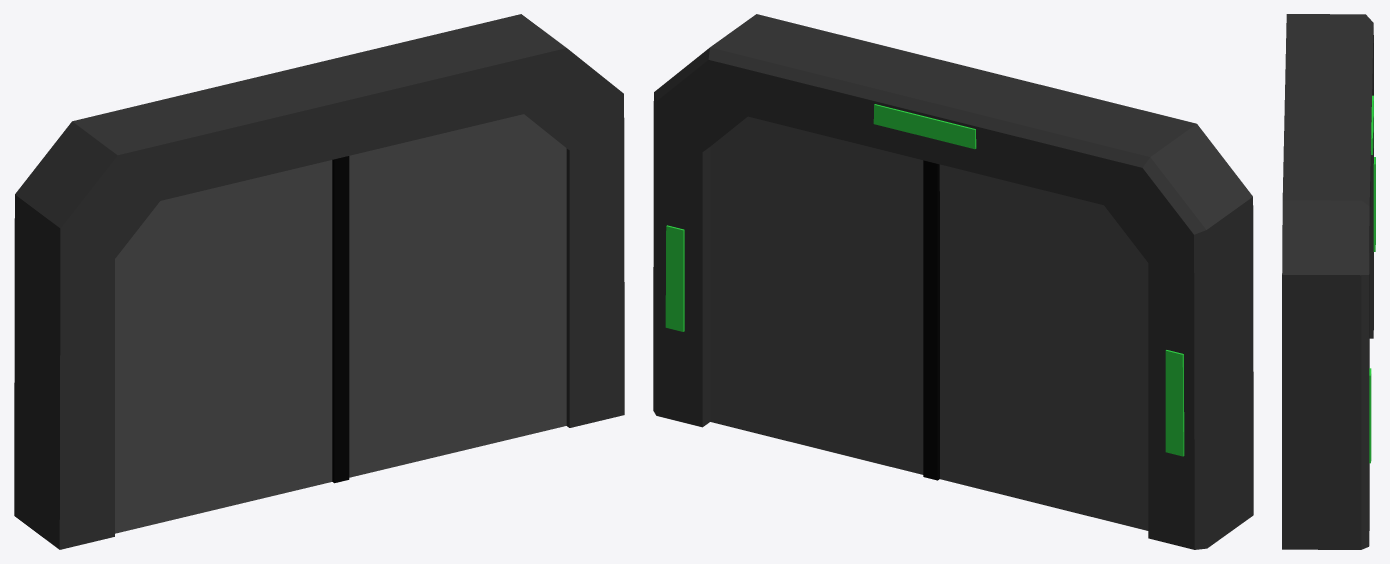
Rendered from gate1.fbx.
3 renders of one model, left to right at view 1: azimuth 30°, elevation 25°; view 2: azimuth 150°, elevation 25°; view 3: azimuth 270°, elevation 25°, orthographic. The views are drawn at different scales.
Parts seen in each view (by area): view 1: door_frame, right_door, left_door; view 2: door_frame, left_door, right_door; view 3: door_frame.
Part boxes in pixels (left/top/right/bottom): door_frame: left=14, top=14, right=624, bottom=549; right_door: left=115, top=157, right=341, bottom=533; left_door: left=342, top=114, right=566, bottom=481; door_frame: left=653, top=14, right=1253, bottom=549; left_door: left=710, top=116, right=930, bottom=478; right_door: left=930, top=162, right=1148, bottom=530; door_frame: left=1282, top=14, right=1375, bottom=549.
Size of the model in its own units: 12.58 by 2.12 by 8.13.
